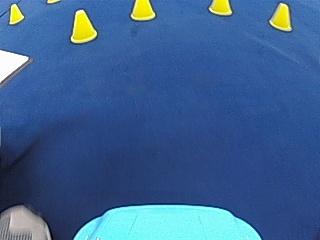cone: (4, 206, 47, 239), (69, 8, 97, 43), (268, 2, 292, 30), (130, 0, 154, 20), (8, 3, 24, 23), (209, 0, 231, 14)
